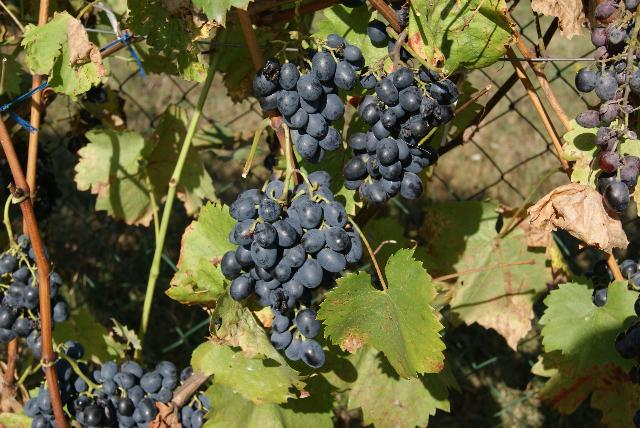grapes: (220, 185, 362, 369), (342, 66, 459, 205), (252, 34, 364, 160), (68, 360, 192, 428), (0, 235, 41, 359), (180, 394, 210, 428), (50, 272, 69, 322), (315, 184, 329, 199)
